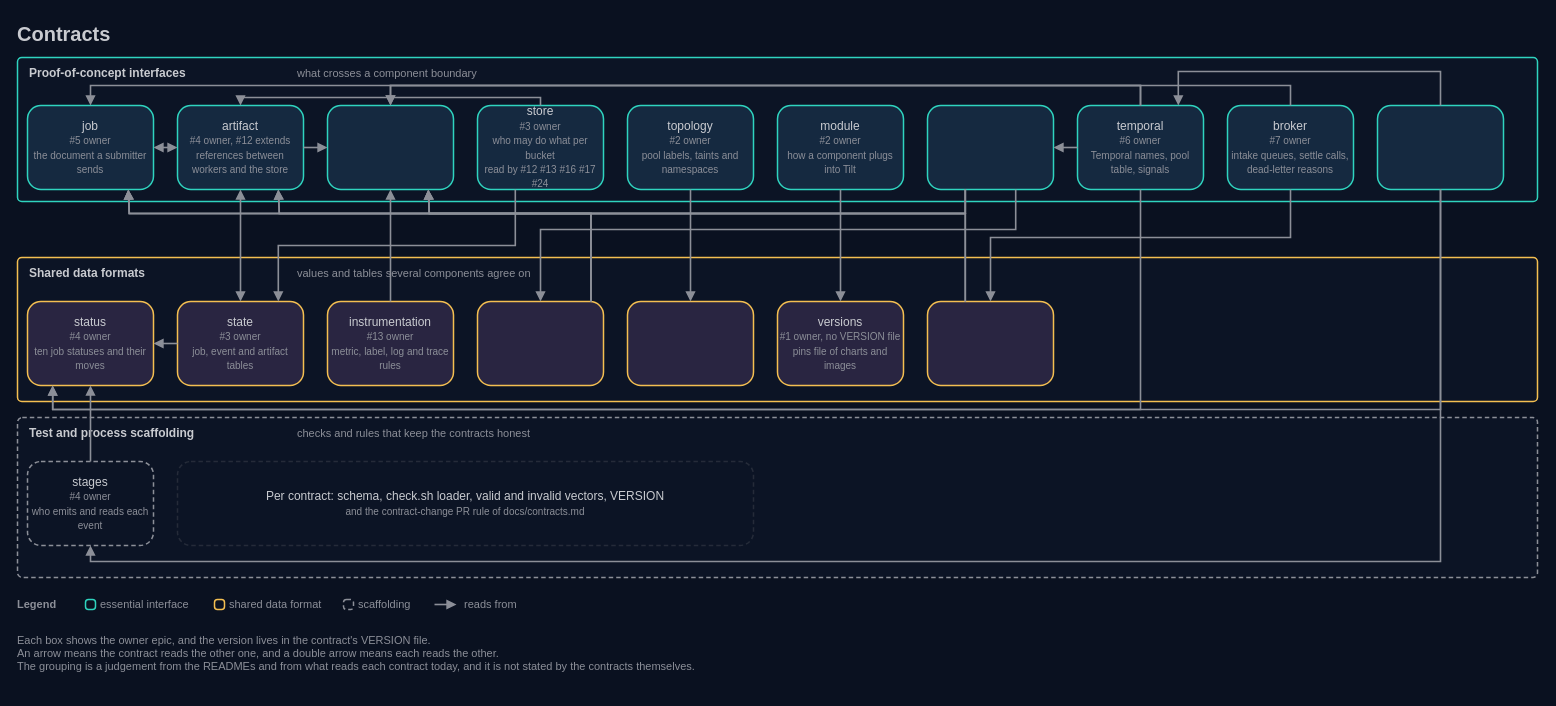
This 1556x706 diagram has some shape labels left out. The box of each missing label's shape, as (x1, y1, x2, y2) in pixels:
activity #6 owner task input, result, failure classes: (926, 104, 1054, 190)
api #24 owner routes, bodies, control table: (1376, 104, 1504, 190)
events #4 owner the envelope on every hop: (326, 104, 454, 190)
preset #2 owner cluster sizes: ci, dev, soak: (626, 300, 754, 386)
tenancy #7 owner tenants, priority classes and caps per preset: (926, 300, 1054, 386)
workload #11 owner guest contract, exit classes, result formats: (476, 300, 604, 386)
